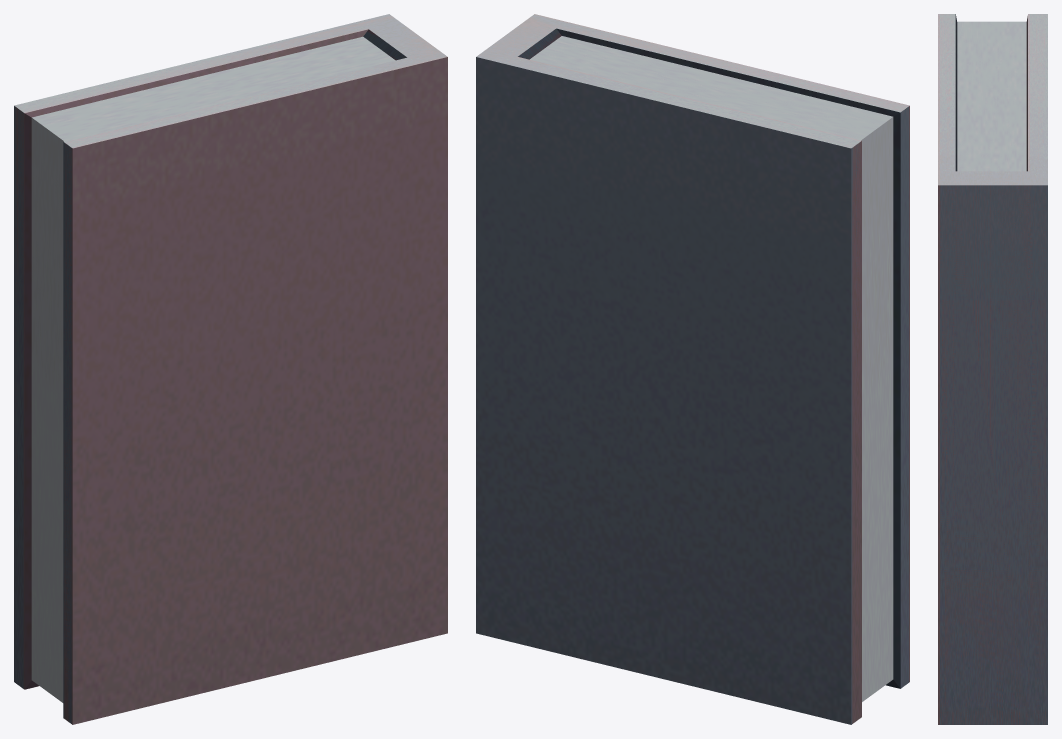
The model's file is Books_sm.fbx.
The picture shows the model from 3 angles, left to right: view 1: azimuth 30°, elevation 25°; view 2: azimuth 150°, elevation 25°; view 3: azimuth 270°, elevation 25°; orthographic projection. The views are drawn at different scales.
Visible parts, largest first — view 1: Book_Red, Book_Blue; view 2: Book_Blue, Book_Red; view 3: Book_Blue, Book_Red.
Boxes of the visible parts, bbox=[...] form: Book_Red: bbox=[15, 15, 447, 724]; Book_Blue: bbox=[14, 14, 446, 723]; Book_Blue: bbox=[476, 15, 908, 724]; Book_Red: bbox=[477, 14, 909, 723]; Book_Blue: bbox=[940, 14, 1047, 724]; Book_Red: bbox=[938, 14, 1045, 724].
Size of the model in its own units: 24.38 by 35.79 by 6.6.
